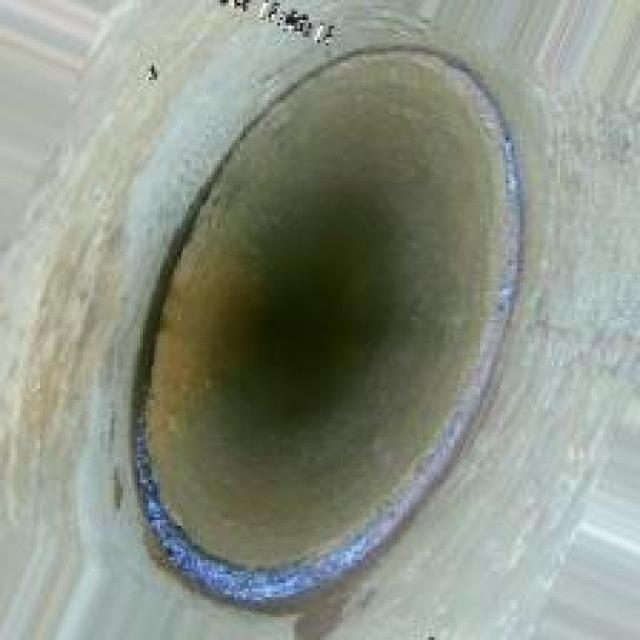joint: (109, 46, 534, 617)
